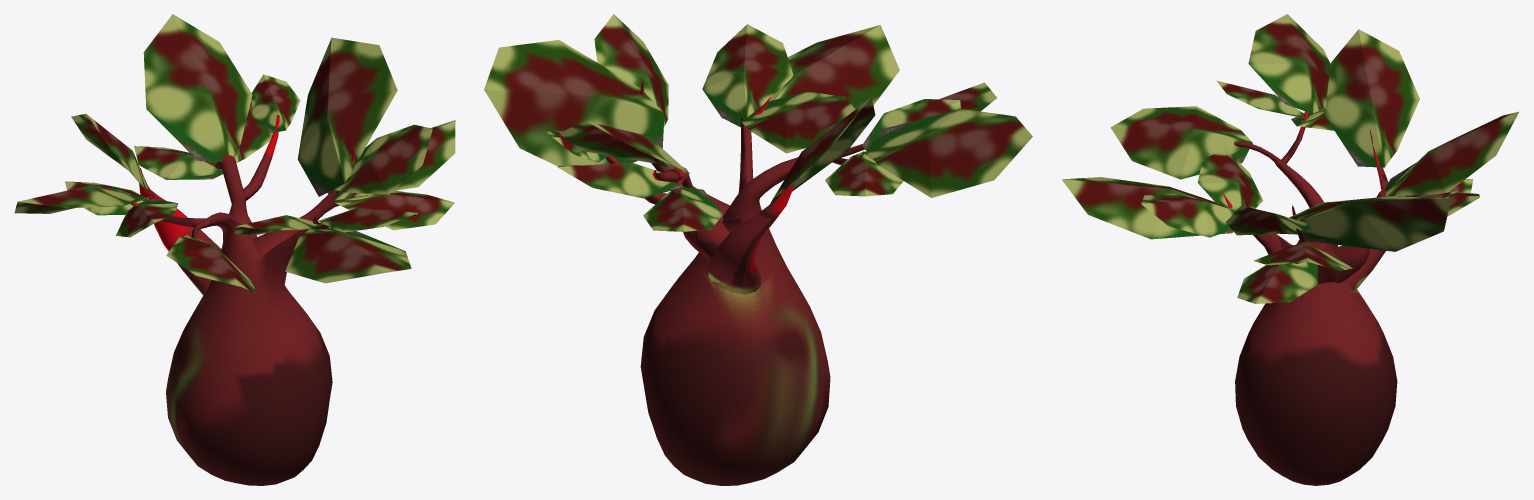
Rendered from Fat_tree_with_leaves_001.fbx.
The picture shows the model from 3 angles, left to right: view 1: azimuth 30°, elevation 25°; view 2: azimuth 150°, elevation 25°; view 3: azimuth 270°, elevation 25°; orthographic projection. The views are drawn at different scales.
Visible parts, largest first — view 1: Large_Fat_tree_with_leaves_002; view 2: Large_Fat_tree_with_leaves_002; view 3: Large_Fat_tree_with_leaves_002.
Part boxes in pixels (left/top/right/bottom): Large_Fat_tree_with_leaves_002: left=14, top=14, right=455, bottom=485; Large_Fat_tree_with_leaves_002: left=484, top=14, right=1032, bottom=485; Large_Fat_tree_with_leaves_002: left=1062, top=14, right=1518, bottom=485.
Size of the model in its own units: 8214 by 6761 by 7445.
